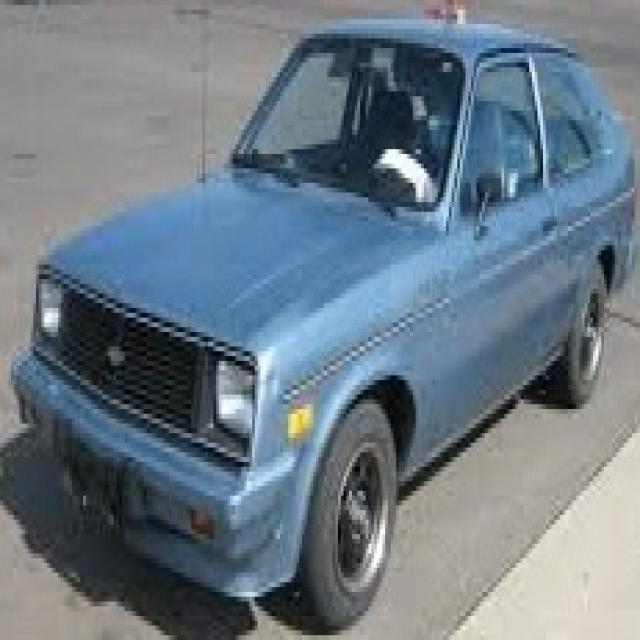blue: (26, 17, 639, 640)
